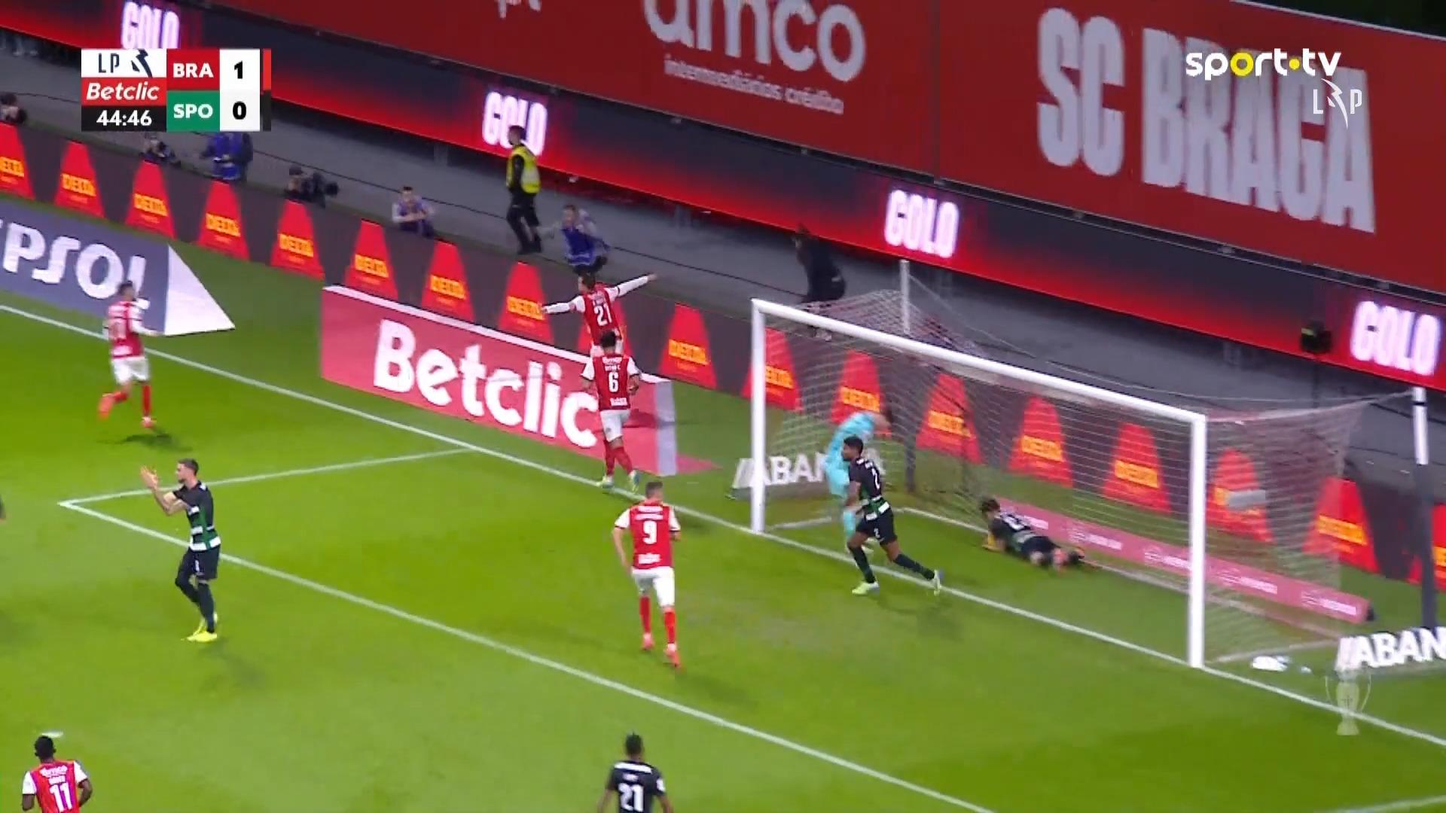goalkeeper: (820, 409, 888, 550)
player: (840, 434, 944, 597), (138, 457, 221, 642), (610, 479, 683, 669), (538, 269, 657, 385), (578, 329, 643, 492), (96, 279, 163, 429), (977, 495, 1091, 575), (594, 731, 673, 811), (20, 733, 93, 811)
